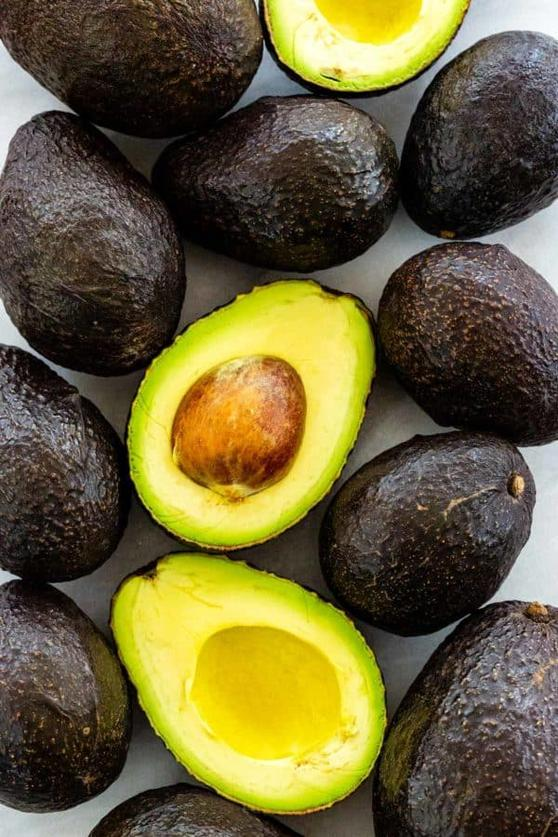avocado: (1, 109, 180, 370), (143, 93, 397, 270), (343, 428, 553, 622), (385, 232, 558, 439)
